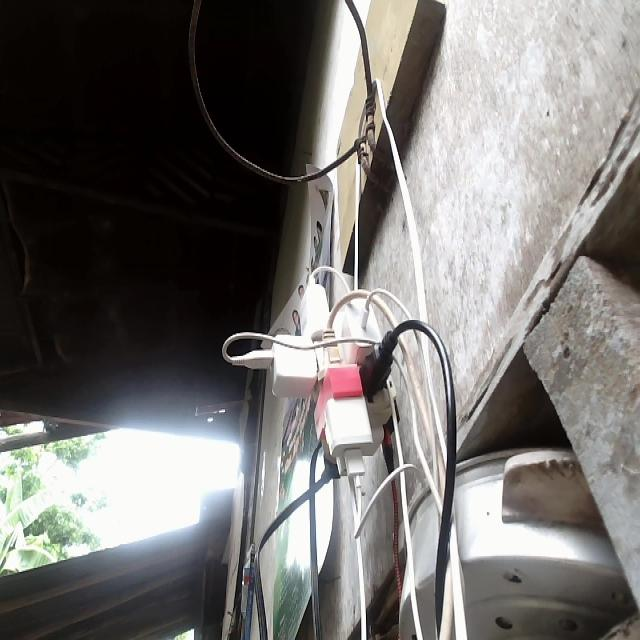-: (258, 268, 398, 492)
